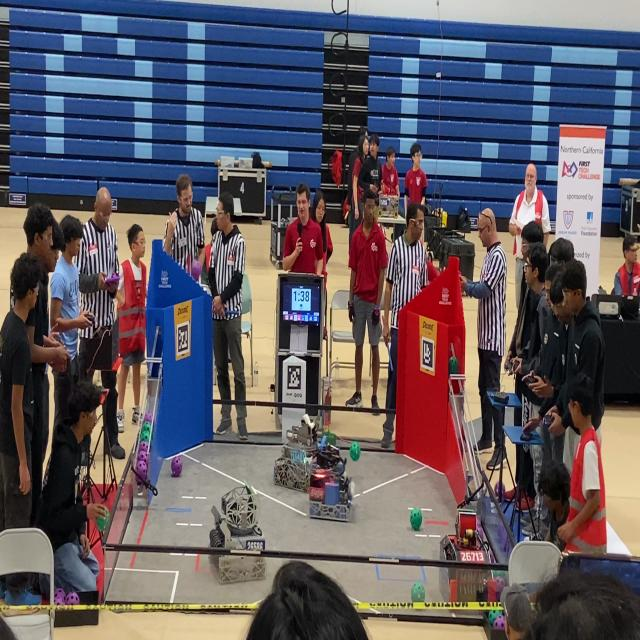artifact_green: (96, 511, 110, 532), (411, 582, 425, 602), (410, 508, 422, 530), (495, 577, 505, 601), (488, 610, 501, 628), (492, 614, 505, 631), (350, 442, 361, 461), (449, 356, 459, 374), (334, 459, 344, 476), (325, 432, 336, 445), (493, 571, 507, 581), (137, 451, 148, 463), (140, 430, 150, 442), (139, 443, 149, 454), (143, 413, 152, 422), (141, 432, 150, 441), (142, 423, 151, 431), (145, 430, 151, 442), (141, 424, 151, 431), (142, 422, 151, 429), (141, 427, 151, 433), (142, 421, 151, 427)
artifact_purple: (495, 577, 505, 599), (172, 456, 182, 477), (136, 460, 147, 479), (495, 481, 505, 501), (192, 261, 202, 281), (498, 526, 507, 548), (65, 592, 80, 605), (493, 615, 505, 630), (54, 589, 65, 605), (138, 452, 148, 467), (53, 595, 65, 606), (139, 441, 149, 453), (135, 475, 143, 487), (143, 413, 152, 423)
